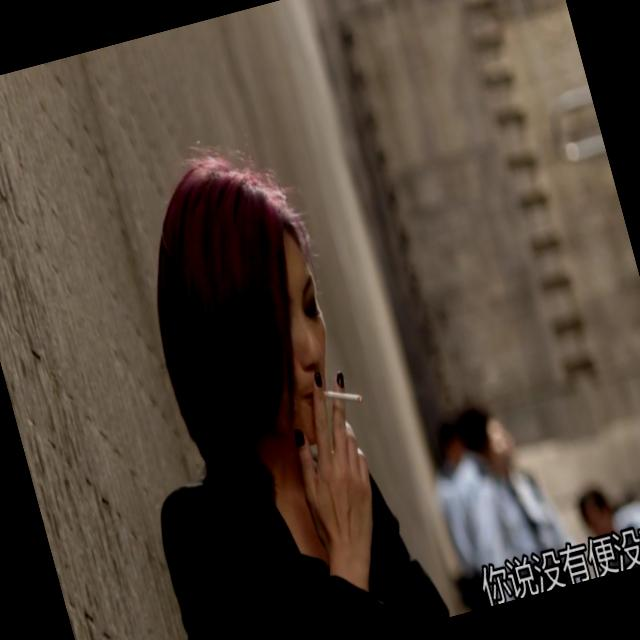smoke: (319, 376, 365, 417)
